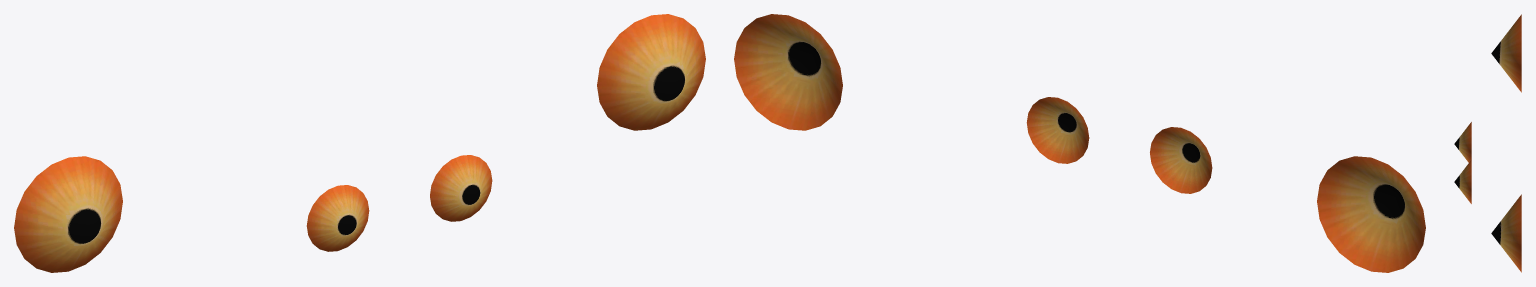
File: hutt_transport_engine_on_l0.fbx
The picture shows the model from 3 angles, left to right: view 1: azimuth 30°, elevation 25°; view 2: azimuth 150°, elevation 25°; view 3: azimuth 270°, elevation 25°; orthographic projection. The views are drawn at different scales.
Parts seen in each view (by area): view 1: mesh_node; view 2: mesh_node; view 3: mesh_node.
Boxes of the visible parts, bbox=[...] form: mesh_node: bbox=[14, 14, 705, 272]; mesh_node: bbox=[734, 14, 1425, 272]; mesh_node: bbox=[1454, 14, 1521, 272].
Bounding box in the file's own units: 21.13 × 3.52 × 2.83.
1 material, 1 textured.
